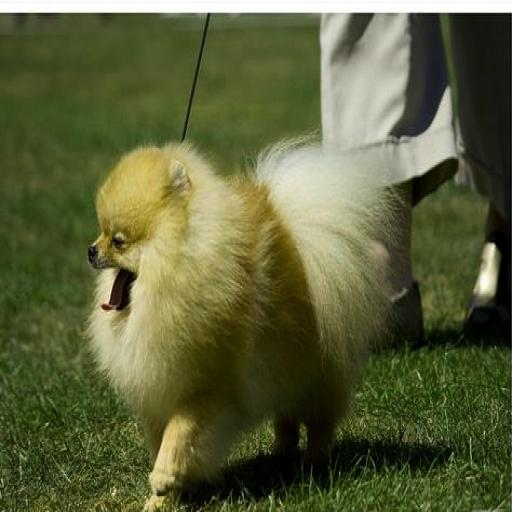dog_face: (87, 155, 199, 320)
